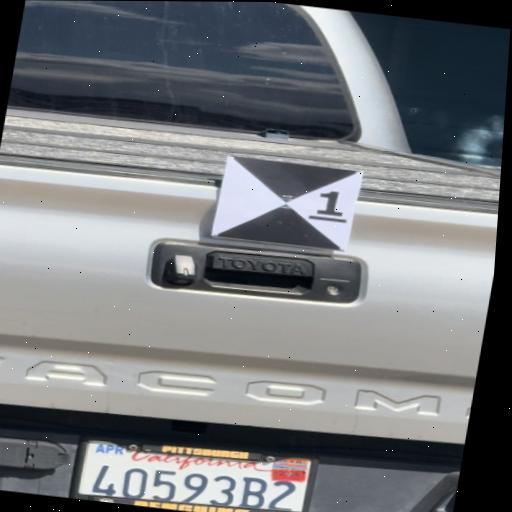target1: (214, 156, 359, 252)
